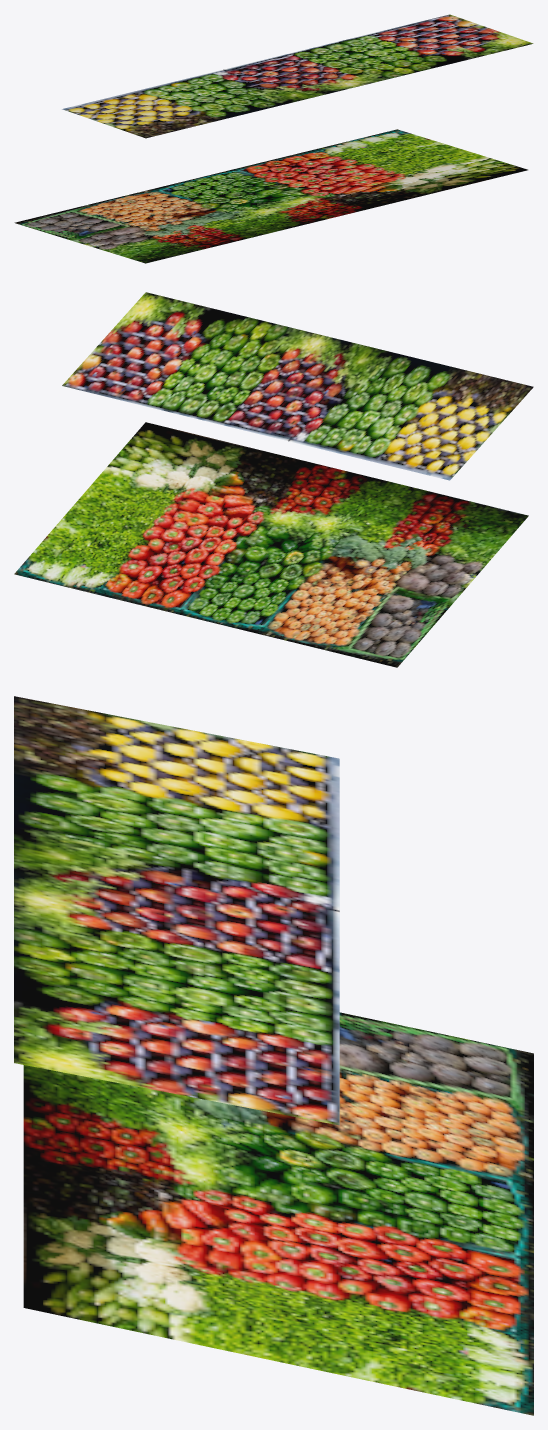
The model's file is vegetable_stand_inv0.glb.
3 views of the same model, one above another, from view 1: azimuth 30°, elevation 25°; view 2: azimuth 150°, elevation 25°; view 3: azimuth 270°, elevation 25° (orthographic). The views are drawn at different scales.
Visible parts, largest first — view 1: VegetableStandInventory; view 2: VegetableStandInventory; view 3: VegetableStandInventory.
Part boxes in pixels (box(x1,y1,x2,y2)): VegetableStandInventory: box(14, 14, 533, 263); VegetableStandInventory: box(14, 292, 533, 667); VegetableStandInventory: box(14, 696, 533, 1415).
Bounding box in the file's own units: 2.47 × 1.12 × 1.48.
1 material, 1 textured.
